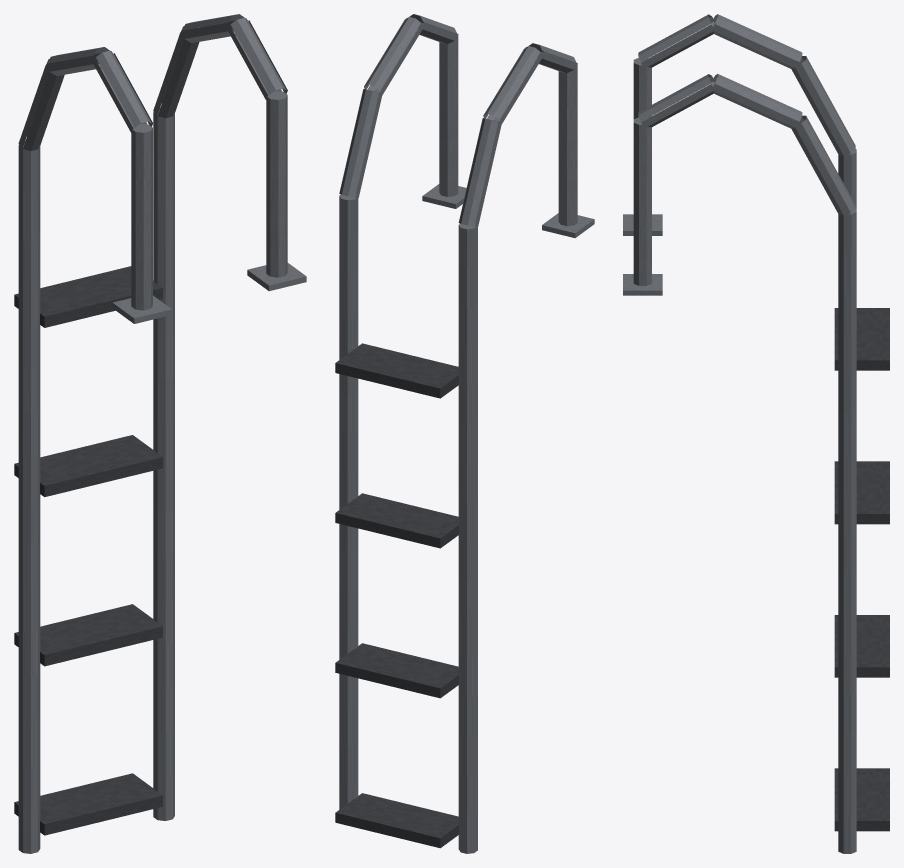
The model's file is pool_ladder.obj.
The picture shows the model from 3 angles, left to right: view 1: azimuth 30°, elevation 25°; view 2: azimuth 150°, elevation 25°; view 3: azimuth 270°, elevation 25°; orthographic projection. The views are drawn at different scales.
Parts seen in each view (by area): view 1: pool_ladder; view 2: pool_ladder; view 3: pool_ladder.
Part boxes in pixels (box(x1,y1,x2,y2)): pool_ladder: box(14, 14, 306, 853); pool_ladder: box(335, 14, 594, 853); pool_ladder: box(623, 14, 889, 853).
Bounding box in the file's own units: 0.8 × 3.79 × 1.18.
